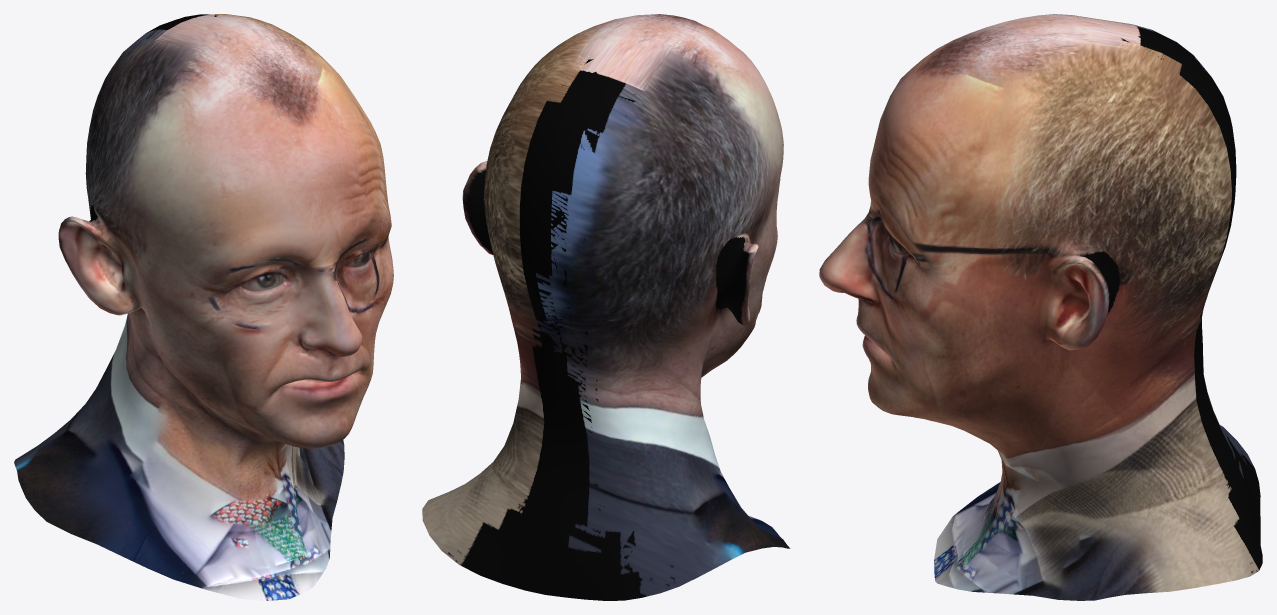
File: merz_ki.glb
3 renders of one model, left to right at view 1: azimuth 30°, elevation 25°; view 2: azimuth 150°, elevation 25°; view 3: azimuth 270°, elevation 25°, orthographic. The views are drawn at different scales.
Parts seen in each view (by area): view 1: merz-col; view 2: merz-col; view 3: merz-col.
Part boxes in pixels (x1,y1,x2,y2): merz-col: (14,14,393,600); merz-col: (422,14,790,600); merz-col: (819,14,1262,600).
Bounding box in the file's own units: 2.06 × 3.14 × 2.28.
Materials: 1 (1 with a texture image).
